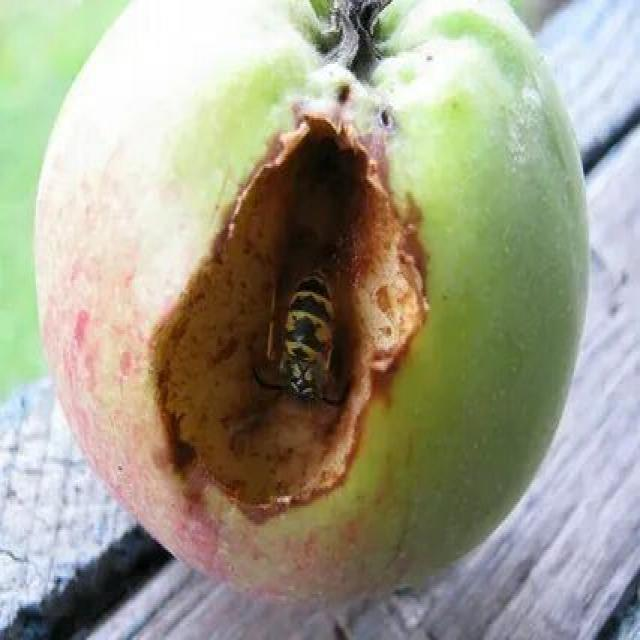Rotten: (54, 2, 618, 603)
